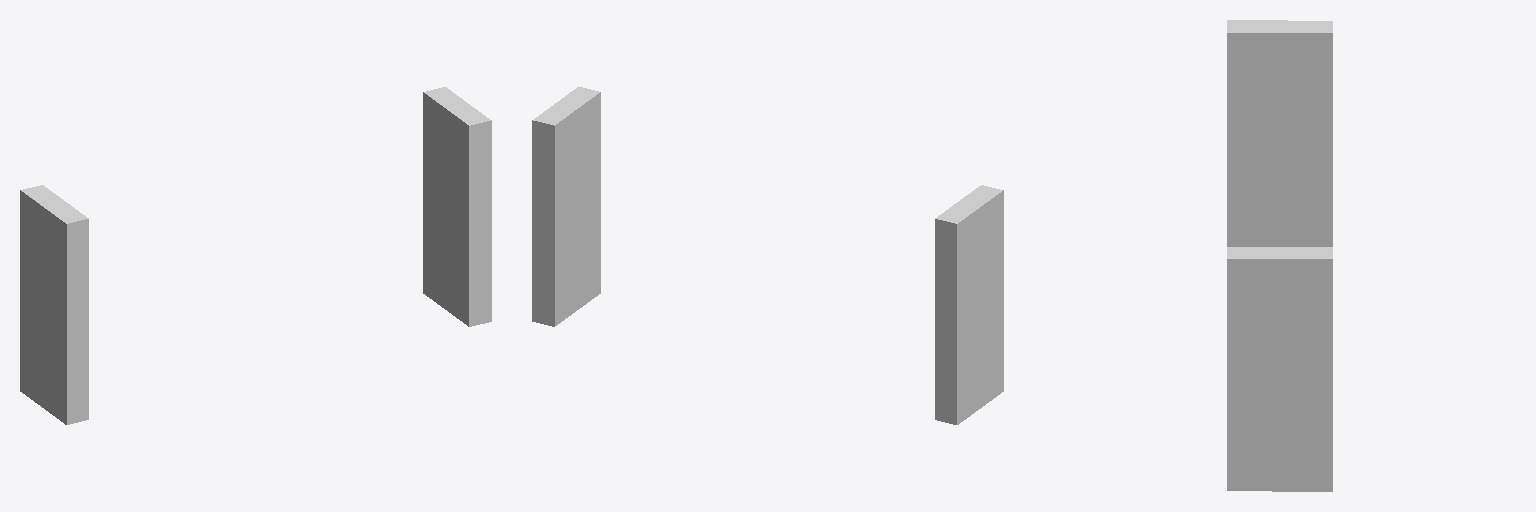
The robot description file, URDF, robot "gen3_robotiq_2f_140":
<?xml version="1.0" ?>
<!-- =================================================================================== -->
<!-- |    This document was autogenerated by xacro from ./gen3_robotiq_2f_140.xacro    | -->
<!-- |    EDITING THIS FILE BY HAND IS NOT RECOMMENDED                                 | -->
<!-- =================================================================================== -->
<robot name="gen3_robotiq_2f_140">
  <!-- Run the macros -->
  <link name="base_link">
    <inertial>
      <origin rpy="0 0 0" xyz="-0.000648 -0.000166 0.084487"/>
      <mass value="1.697"/>
      <inertia ixx="0.004622" ixy="9E-06" ixz="6E-05" iyy="0.004495" iyz="9E-06" izz="0.002079"/>
    </inertial>
    <visual>
      <origin rpy="0 0 0" xyz="0 0 0"/>
      <geometry>
        <mesh filename="arms/gen3/7dof/meshes/base_link.STL"/>
      </geometry>
      <material name="">
        <color rgba="0.75294 0.75294 0.75294 1"/>
      </material>
    </visual>
    <collision>
      <origin rpy="0 0 0" xyz="0 0 0"/>
      <geometry>
        <mesh filename="arms/gen3/7dof/collision_meshes/base_link.STL"/>
      </geometry>
    </collision>
  </link>
  <link name="shoulder_link">
    <inertial>
      <origin rpy="0 0 0" xyz="-2.3E-05 -0.010364 -0.07336"/>
      <mass value="1.3773"/>
      <inertia ixx="0.00457" ixy="1E-06" ixz="2E-06" iyy="0.004831" iyz="0.000448" izz="0.001409"/>
    </inertial>
    <visual>
      <origin rpy="0 0 0" xyz="0 0 0"/>
      <geometry>
        <mesh filename="arms/gen3/7dof/meshes/shoulder_link.STL"/>
      </geometry>
      <material name="">
        <color rgba="0.75294 0.75294 0.75294 1"/>
      </material>
    </visual>
    <collision>
      <origin rpy="0 0 0" xyz="0 0 0"/>
      <geometry>
        <mesh filename="arms/gen3/7dof/collision_meshes/shoulder_link.STL"/>
      </geometry>
    </collision>
  </link>
  <joint name="joint_1" type="continuous">
    <origin rpy="3.1416 2.7629E-18 -4.9305E-36" xyz="0 0 0.15643"/>
    <parent link="base_link"/>
    <child link="shoulder_link"/>
    <axis xyz="0 0 1"/>
    <limit effort="39" velocity="1.3963"/>
  </joint>
  <link name="half_arm_1_link">
    <inertial>
      <origin rpy="0 0 0" xyz="-4.4E-05 -0.09958 -0.013278"/>
      <mass value="1.1636"/>
      <inertia ixx="0.011088" ixy="5E-06" ixz="0" iyy="0.001072" iyz="-0.000691" izz="0.011255"/>
    </inertial>
    <visual>
      <origin rpy="0 0 0" xyz="0 0 0"/>
      <geometry>
        <mesh filename="arms/gen3/7dof/meshes/half_arm_1_link.STL"/>
      </geometry>
      <material name="">
        <color rgba="0.75294 0.75294 0.75294 1"/>
      </material>
    </visual>
    <collision>
      <origin rpy="0 0 0" xyz="0 0 0"/>
      <geometry>
        <mesh filename="arms/gen3/7dof/collision_meshes/half_arm_1_link.STL"/>
      </geometry>
    </collision>
  </link>
  <joint name="joint_2" type="revolute">
    <origin rpy="1.5708 2.1343E-17 -1.1102E-16" xyz="0 0.005375 -0.12838"/>
    <parent link="shoulder_link"/>
    <child link="half_arm_1_link"/>
    <axis xyz="0 0 1"/>
    <limit effort="39" lower="-2.24" upper="2.24" velocity="1.3963"/>
  </joint>
  <link name="half_arm_2_link">
    <inertial>
      <origin rpy="0 0 0" xyz="-4.4E-05 -0.006641 -0.117892"/>
      <mass value="1.1636"/>
      <inertia ixx="0.010932" ixy="0" ixz="-7E-06" iyy="0.011127" iyz="0.000606" izz="0.001043"/>
    </inertial>
    <visual>
      <origin rpy="0 0 0" xyz="0 0 0"/>
      <geometry>
        <mesh filename="arms/gen3/7dof/meshes/half_arm_2_link.STL"/>
      </geometry>
      <material name="">
        <color rgba="0.75294 0.75294 0.75294 1"/>
      </material>
    </visual>
    <collision>
      <origin rpy="0 0 0" xyz="0 0 0"/>
      <geometry>
        <mesh filename="arms/gen3/7dof/collision_meshes/half_arm_2_link.STL"/>
      </geometry>
    </collision>
  </link>
  <joint name="joint_3" type="continuous">
    <origin rpy="-1.5708 1.2326E-32 -2.9122E-16" xyz="0 -0.21038 -0.006375"/>
    <parent link="half_arm_1_link"/>
    <child link="half_arm_2_link"/>
    <axis xyz="0 0 1"/>
    <limit effort="39" velocity="1.3963"/>
  </joint>
  <link name="forearm_link">
    <inertial>
      <origin rpy="0 0 0" xyz="-1.8E-05 -0.075478 -0.015006"/>
      <mass value="0.9302"/>
      <inertia ixx="0.008147" ixy="-1E-06" ixz="0" iyy="0.000631" iyz="-0.0005" izz="0.008316"/>
    </inertial>
    <visual>
      <origin rpy="0 0 0" xyz="0 0 0"/>
      <geometry>
        <mesh filename="arms/gen3/7dof/meshes/forearm_link.STL"/>
      </geometry>
      <material name="">
        <color rgba="0.75294 0.75294 0.75294 1"/>
      </material>
    </visual>
    <collision>
      <origin rpy="0 0 0" xyz="0 0 0"/>
      <geometry>
        <mesh filename="arms/gen3/7dof/collision_meshes/forearm_link.STL"/>
      </geometry>
    </collision>
  </link>
  <joint name="joint_4" type="revolute">
    <origin rpy="1.5708 -6.6954E-17 -1.6653E-16" xyz="0 0.006375 -0.21038"/>
    <parent link="half_arm_2_link"/>
    <child link="forearm_link"/>
    <axis xyz="0 0 1"/>
    <limit effort="39" lower="-2.57" upper="2.57" velocity="1.3963"/>
  </joint>
  <link name="spherical_wrist_1_link">
    <inertial>
      <origin rpy="0 0 0" xyz="1E-06 -0.009432 -0.063883"/>
      <mass value="0.6781"/>
      <inertia ixx="0.001596" ixy="0" ixz="0" iyy="0.001607" iyz="0.000256" izz="0.000399"/>
    </inertial>
    <visual>
      <origin rpy="0 0 0" xyz="0 0 0"/>
      <geometry>
        <mesh filename="arms/gen3/7dof/meshes/spherical_wrist_1_link.STL"/>
      </geometry>
      <material name="">
        <color rgba="0.75294 0.75294 0.75294 1"/>
      </material>
    </visual>
    <collision>
      <origin rpy="0 0 0" xyz="0 0 0"/>
      <geometry>
        <mesh filename="arms/gen3/7dof/collision_meshes/spherical_wrist_1_link.STL"/>
      </geometry>
    </collision>
  </link>
  <joint name="joint_5" type="continuous">
    <origin rpy="-1.5708 2.2204E-16 -6.373E-17" xyz="0 -0.20843 -0.006375"/>
    <parent link="forearm_link"/>
    <child link="spherical_wrist_1_link"/>
    <axis xyz="0 0 1"/>
    <limit effort="9" velocity="1.2218"/>
  </joint>
  <link name="spherical_wrist_2_link">
    <inertial>
      <origin rpy="0 0 0" xyz="1E-06 -0.045483 -0.00965"/>
      <mass value="0.6781"/>
      <inertia ixx="0.001641" ixy="0" ixz="0" iyy="0.00041" iyz="-0.000278" izz="0.001641"/>
    </inertial>
    <visual>
      <origin rpy="0 0 0" xyz="0 0 0"/>
      <geometry>
        <mesh filename="arms/gen3/7dof/meshes/spherical_wrist_2_link.STL"/>
      </geometry>
      <material name="">
        <color rgba="0.75294 0.75294 0.75294 1"/>
      </material>
    </visual>
    <collision>
      <origin rpy="0 0 0" xyz="0 0 0"/>
      <geometry>
        <mesh filename="arms/gen3/7dof/collision_meshes/spherical_wrist_2_link.STL"/>
      </geometry>
    </collision>
  </link>
  <joint name="joint_6" type="revolute">
    <origin rpy="1.5708 9.2076E-28 -8.2157E-15" xyz="0 0.00017505 -0.10593"/>
    <parent link="spherical_wrist_1_link"/>
    <child link="spherical_wrist_2_link"/>
    <axis xyz="0 0 1"/>
    <limit effort="9" lower="-2.09" upper="2.09" velocity="1.2218"/>
  </joint>
  <link name="bracelet_link">
    <inertial>
      <origin rpy="0 0 0" xyz="-9.3E-05 0.000132 -0.022905"/>
      <mass value="0.364"/>
      <inertia ixx="0.000214" ixy="0" ixz="1E-06" iyy="0.000223" iyz="-2E-06" izz="0.00024"/>
    </inertial>
    <visual>
      <origin rpy="0 0 0" xyz="0 0 0"/>
      <geometry>
        <mesh filename="arms/gen3/7dof/meshes/bracelet_no_vision_link.STL"/>
      </geometry>
      <material name="">
        <color rgba="0.75294 0.75294 0.75294 1"/>
      </material>
    </visual>
    <collision>
      <origin rpy="0 0 0" xyz="0 0 0"/>
      <geometry>
        <mesh filename="arms/gen3/7dof/collision_meshes/bracelet_no_vision_link.STL"/>
      </geometry>
    </collision>
  </link>
  <joint name="joint_7" type="continuous">
    <origin rpy="-1.5708 -5.5511E-17 9.6396E-17" xyz="0 -0.10593 -0.00017505"/>
    <parent link="spherical_wrist_2_link"/>
    <child link="bracelet_link"/>
    <axis xyz="0 0 1"/>
    <limit effort="9" velocity="1.2218"/>
  </joint>
  <link name="end_effector_link"/>
  <joint name="end_effector" type="fixed">
    <origin rpy="3.14159265358979 1.09937075168372E-32 0" xyz="0 0 -0.0615250000000001"/>
    <parent link="bracelet_link"/>
    <child link="end_effector_link"/>
    <axis xyz="0 0 0"/>
  </joint>
  <!-- Tool frame used by the arm -->
  <link name="tool_frame"/>
  <joint name="tool_frame_joint" type="fixed">
    <origin rpy="0 0 0" xyz="0 0 0.20"/>
    <parent link="end_effector_link"/>
    <child link="tool_frame"/>
    <axis xyz="0 0 0"/>
  </joint>
  <!-- This joint was added by Kinova -->
  <joint name="gripper_base_joint" type="fixed">
    <parent link="end_effector_link"/>
    <child link="robotiq_arg2f_base_link"/>
    <origin rpy="0.0 0.0 1.57" xyz="0.0 0.0 0.0"/>
  </joint>
  <link name="robotiq_arg2f_base_link">
    <inertial>
      <origin rpy="0 0 0" xyz="8.625E-08 -4.6583E-06 0.03145"/>
      <mass value="0.22652"/>
      <inertia ixx="0.00020005" ixy="-4.2442E-10" ixz="-2.9069E-10" iyy="0.00017832" iyz="-3.4402E-08" izz="0.00013478"/>
    </inertial>
    <visual>
      <origin rpy="0 0 0" xyz="0 0 0"/>
      <geometry>
        <!-- The DAE file doesn't show well in Gazebo so we're using the STL instead -->
        <!-- <mesh filename="grippers/robotiq_2f_140/meshes/visual/robotiq_arg2f_140_base_link.dae" scale="0.001 0.001 0.001"/> -->
        <mesh filename="grippers/robotiq_2f_140/meshes/collision/robotiq_arg2f_base_link.stl"/>
      </geometry>
      <material name="">
        <color rgba="0.1 0.1 0.1 1"/>
      </material>
    </visual>
    <collision>
      <origin rpy="0 0 0" xyz="0 0 0"/>
      <geometry>
        <mesh filename="grippers/robotiq_2f_140/meshes/collision/robotiq_arg2f_base_link.stl"/>
      </geometry>
    </collision>
  </link>
  <gazebo reference="robotiq_arg2f_base_link">
    <material>Gazebo/Black</material>
  </gazebo>
  <link name="left_outer_knuckle">
    <inertial>
      <origin rpy="0 0 0" xyz="-0.000200000000003065 0.0199435877845359 0.0292245259211331"/>
      <mass value="0.00853198276973456"/>
      <inertia ixx="2.89328108496468E-06" ixy="-1.57935047237397E-19" ixz="-1.93980378593255E-19" iyy="1.86719750325683E-06" iyz="-1.21858577871576E-06" izz="1.21905238907251E-06"/>
    </inertial>
    <visual>
      <origin rpy="0 0 0" xyz="0 0 0"/>
      <geometry>
        <mesh filename="grippers/robotiq_2f_140/meshes/visual/robotiq_arg2f_140_outer_knuckle.stl"/>
      </geometry>
      <material name="">
        <color rgba="0.792156862745098 0.819607843137255 0.933333333333333 1"/>
      </material>
    </visual>
    <collision>
      <origin rpy="0 0 0" xyz="0 0 0"/>
      <geometry>
        <mesh filename="grippers/robotiq_2f_140/meshes/collision/robotiq_arg2f_140_outer_knuckle.stl"/>
      </geometry>
    </collision>
  </link>
  <gazebo reference="left_outer_knuckle">
    <visual>
      <material>
        <ambient>0.792156862745098 0.819607843137255 0.933333333333333 1</ambient>
        <diffuse>0.792156862745098 0.819607843137255 0.933333333333333 1</diffuse>
      </material>
    </visual>
  </gazebo>
  <link name="left_outer_finger">
    <inertial>
      <origin rpy="0 0 0" xyz="0.00030115855001899 0.0373907951953854 -0.0208027427000385"/>
      <mass value="0.022614240507152"/>
      <inertia ixx="1.52518312458174E-05" ixy="9.76583423954399E-10" ixz="-5.43838577022588E-10" iyy="6.17694243867776E-06" iyz="6.78636130740228E-06" izz="1.16494917907219E-05"/>
    </inertial>
    <visual>
      <origin rpy="0 0 0" xyz="0 0 0"/>
      <geometry>
        <mesh filename="grippers/robotiq_2f_140/meshes/visual/robotiq_arg2f_140_outer_finger.stl"/>
      </geometry>
      <material name="">
        <color rgba="0.1 0.1 0.1 1"/>
      </material>
    </visual>
    <collision>
      <origin rpy="0 0 0" xyz="0 0 0"/>
      <geometry>
        <mesh filename="grippers/robotiq_2f_140/meshes/collision/robotiq_arg2f_140_outer_finger.stl"/>
      </geometry>
    </collision>
  </link>
  <gazebo reference="left_outer_finger">
    <material>Gazebo/Black</material>
  </gazebo>
  <link name="left_inner_finger">
    <inertial>
      <origin rpy="0 0 0" xyz="0.000299999999999317 0.0160078233491243 -0.0136945669206257"/>
      <mass value="0.0104003125914103"/>
      <inertia ixx="2.71909453810972E-06" ixy="1.35402465472579E-21" ixz="-7.1817349065269E-22" iyy="7.69100314106116E-07" iyz="6.74715432769696E-07" izz="2.30315190420171E-06"/>
    </inertial>
    <visual>
      <origin rpy="0 0 0" xyz="0 0 0"/>
      <geometry>
        <mesh filename="grippers/robotiq_2f_140/meshes/visual/robotiq_arg2f_140_inner_finger.stl"/>
      </geometry>
      <material name="">
        <color rgba="0.1 0.1 0.1 1"/>
      </material>
    </visual>
    <collision>
      <origin rpy="0 0 0" xyz="0 0 0"/>
      <geometry>
        <mesh filename="grippers/robotiq_2f_140/meshes/collision/robotiq_arg2f_140_inner_finger.stl"/>
      </geometry>
    </collision>
  </link>
  <gazebo reference="left_inner_finger">
    <material>Gazebo/Black</material>
  </gazebo>
  <link name="left_inner_finger_pad">
    <visual>
      <origin rpy="0 0 0" xyz="0 0 0"/>
      <geometry>
        <box size="0.027 0.065 0.0075"/>
      </geometry>
      <material name="">
        <color rgba="0.9 0.9 0.9 1"/>
      </material>
    </visual>
    <collision>
      <origin rpy="0 0 0" xyz="0 0 0"/>
      <geometry>
        <box size="0.03 0.07 0.0075"/>
      </geometry>
      <material name="">
        <color rgba="0.9 0.0 0.0 1"/>
      </material>
    </collision>
  </link>
  <link name="left_inner_knuckle">
    <inertial>
      <origin rpy="0 0 0" xyz="0.000123011831763771 0.0507850843201817 0.00103968640075166"/>
      <mass value="0.0271177346495152"/>
      <inertia ixx="2.61910379223783E-05" ixy="-2.43616858946494E-07" ixz="-6.37789906117123E-09" iyy="2.8270243746167E-06" iyz="-5.37200748039765E-07" izz="2.83695868220296E-05"/>
    </inertial>
    <visual>
      <origin rpy="0 0 0" xyz="0 0 0"/>
      <geometry>
        <mesh filename="grippers/robotiq_2f_140/meshes/visual/robotiq_arg2f_140_inner_knuckle.stl"/>
      </geometry>
      <material name="">
        <color rgba="0.1 0.1 0.1 1"/>
      </material>
    </visual>
    <collision>
      <origin rpy="0 0 0" xyz="0 0 0"/>
      <geometry>
        <mesh filename="grippers/robotiq_2f_140/meshes/collision/robotiq_arg2f_140_inner_knuckle.stl"/>
      </geometry>
    </collision>
  </link>
  <gazebo reference="left_inner_knuckle">
    <material>Gazebo/Black</material>
  </gazebo>
  <link name="right_outer_knuckle">
    <inertial>
      <origin rpy="0 0 0" xyz="-0.000200000000003065 0.0199435877845359 0.0292245259211331"/>
      <mass value="0.00853198276973456"/>
      <inertia ixx="2.89328108496468E-06" ixy="-1.57935047237397E-19" ixz="-1.93980378593255E-19" iyy="1.86719750325683E-06" iyz="-1.21858577871576E-06" izz="1.21905238907251E-06"/>
    </inertial>
    <visual>
      <origin rpy="0 0 0" xyz="0 0 0"/>
      <geometry>
        <mesh filename="grippers/robotiq_2f_140/meshes/visual/robotiq_arg2f_140_outer_knuckle.stl"/>
      </geometry>
      <material name="">
        <color rgba="0.792156862745098 0.819607843137255 0.933333333333333 1"/>
      </material>
    </visual>
    <collision>
      <origin rpy="0 0 0" xyz="0 0 0"/>
      <geometry>
        <mesh filename="grippers/robotiq_2f_140/meshes/collision/robotiq_arg2f_140_outer_knuckle.stl"/>
      </geometry>
    </collision>
  </link>
  <gazebo reference="right_outer_knuckle">
    <visual>
      <material>
        <ambient>0.792156862745098 0.819607843137255 0.933333333333333 1</ambient>
        <diffuse>0.792156862745098 0.819607843137255 0.933333333333333 1</diffuse>
      </material>
    </visual>
  </gazebo>
  <link name="right_outer_finger">
    <inertial>
      <origin rpy="0 0 0" xyz="0.00030115855001899 0.0373907951953854 -0.0208027427000385"/>
      <mass value="0.022614240507152"/>
      <inertia ixx="1.52518312458174E-05" ixy="9.76583423954399E-10" ixz="-5.43838577022588E-10" iyy="6.17694243867776E-06" iyz="6.78636130740228E-06" izz="1.16494917907219E-05"/>
    </inertial>
    <visual>
      <origin rpy="0 0 0" xyz="0 0 0"/>
      <geometry>
        <mesh filename="grippers/robotiq_2f_140/meshes/visual/robotiq_arg2f_140_outer_finger.stl"/>
      </geometry>
      <material name="">
        <color rgba="0.1 0.1 0.1 1"/>
      </material>
    </visual>
    <collision>
      <origin rpy="0 0 0" xyz="0 0 0"/>
      <geometry>
        <mesh filename="grippers/robotiq_2f_140/meshes/collision/robotiq_arg2f_140_outer_finger.stl"/>
      </geometry>
    </collision>
  </link>
  <gazebo reference="right_outer_finger">
    <material>Gazebo/Black</material>
  </gazebo>
  <link name="right_inner_finger">
    <inertial>
      <origin rpy="0 0 0" xyz="0.000299999999999317 0.0160078233491243 -0.0136945669206257"/>
      <mass value="0.0104003125914103"/>
      <inertia ixx="2.71909453810972E-06" ixy="1.35402465472579E-21" ixz="-7.1817349065269E-22" iyy="7.69100314106116E-07" iyz="6.74715432769696E-07" izz="2.30315190420171E-06"/>
    </inertial>
    <visual>
      <origin rpy="0 0 0" xyz="0 0 0"/>
      <geometry>
        <mesh filename="grippers/robotiq_2f_140/meshes/visual/robotiq_arg2f_140_inner_finger.stl"/>
      </geometry>
      <material name="">
        <color rgba="0.1 0.1 0.1 1"/>
      </material>
    </visual>
    <collision>
      <origin rpy="0 0 0" xyz="0 0 0"/>
      <geometry>
        <mesh filename="grippers/robotiq_2f_140/meshes/collision/robotiq_arg2f_140_inner_finger.stl"/>
      </geometry>
    </collision>
  </link>
  <gazebo reference="right_inner_finger">
    <material>Gazebo/Black</material>
  </gazebo>
  <link name="right_inner_finger_pad">
    <visual>
      <origin rpy="0 0 0" xyz="0 0 0"/>
      <geometry>
        <box size="0.027 0.065 0.0075"/>
      </geometry>
      <material name="">
        <color rgba="0.9 0.9 0.9 1"/>
      </material>
    </visual>
    <collision>
      <origin rpy="0 0 0" xyz="0 0 0"/>
      <geometry>
        <box size="0.03 0.07 0.0075"/>
      </geometry>
      <material name="">
        <color rgba="0.9 0.0 0.0 1"/>
      </material>
    </collision>
  </link>
  <link name="right_inner_knuckle">
    <inertial>
      <origin rpy="0 0 0" xyz="0.000123011831763771 0.0507850843201817 0.00103968640075166"/>
      <mass value="0.0271177346495152"/>
      <inertia ixx="2.61910379223783E-05" ixy="-2.43616858946494E-07" ixz="-6.37789906117123E-09" iyy="2.8270243746167E-06" iyz="-5.37200748039765E-07" izz="2.83695868220296E-05"/>
    </inertial>
    <visual>
      <origin rpy="0 0 0" xyz="0 0 0"/>
      <geometry>
        <mesh filename="grippers/robotiq_2f_140/meshes/visual/robotiq_arg2f_140_inner_knuckle.stl"/>
      </geometry>
      <material name="">
        <color rgba="0.1 0.1 0.1 1"/>
      </material>
    </visual>
    <collision>
      <origin rpy="0 0 0" xyz="0 0 0"/>
      <geometry>
        <mesh filename="grippers/robotiq_2f_140/meshes/collision/robotiq_arg2f_140_inner_knuckle.stl"/>
      </geometry>
    </collision>
  </link>
  <gazebo reference="right_inner_knuckle">
    <material>Gazebo/Black</material>
  </gazebo>
  <joint name="finger_joint" type="fixed">
    <origin rpy="2.2957963267948966 0 0" xyz="0 -0.030601 0.054905"/>
    <parent link="robotiq_arg2f_base_link"/>
    <child link="left_outer_knuckle"/>
    <axis xyz="-1 0 0"/>
    <limit effort="1000" lower="0" upper="0.7" velocity="2.0"/>
  </joint>
  <joint name="left_outer_finger_joint" type="fixed">
    <origin rpy="0 0 0" xyz="0 0.01821998610742 0.0260018192872234"/>
    <parent link="left_outer_knuckle"/>
    <child link="left_outer_finger"/>
    <axis xyz="1 0 0"/>
  </joint>
  <joint name="left_inner_knuckle_joint" type="fixed">
    <origin rpy="2.2957963267948966 0 0.0" xyz="0 -0.0127 0.06142"/>
    <parent link="robotiq_arg2f_base_link"/>
    <child link="left_inner_knuckle"/>
    <axis xyz="1 0 0"/>
    <limit effort="1000" lower="-0.8757" upper="0.8757" velocity="2.0"/>
    <mimic joint="finger_joint" multiplier="-1" offset="0"/>
  </joint>
  <joint name="left_inner_finger_joint" type="fixed">
    <origin rpy="-0.725 0 0" xyz="0 0.0817554015893473 -0.0282203446692936"/>
    <parent link="left_outer_finger"/>
    <child link="left_inner_finger"/>
    <axis xyz="1 0 0"/>
    <limit effort="1000" lower="-0.8757" upper="0.8757" velocity="2.0"/>
    <mimic joint="finger_joint" multiplier="1" offset="0"/>
  </joint>
  <joint name="left_inner_finger_pad_joint" type="fixed">
    <origin rpy="0 0 0" xyz="0 0.0457554015893473 -0.0272203446692936"/>
    <parent link="left_inner_finger"/>
    <child link="left_inner_finger_pad"/>
    <axis xyz="0 0 1"/>
  </joint>
  <joint name="right_outer_knuckle_joint" type="fixed">
    <origin rpy="2.2957963267948966 0 3.141592653589793" xyz="0 0.030601 0.054905"/>
    <parent link="robotiq_arg2f_base_link"/>
    <child link="right_outer_knuckle"/>
    <axis xyz="1 0 0"/>
    <limit effort="1000" lower="-0.725" upper="0.725" velocity="2.0"/>
    <mimic joint="finger_joint" multiplier="-1" offset="0"/>
  </joint>
  <joint name="right_outer_finger_joint" type="fixed">
    <origin rpy="0 0 0" xyz="0 0.01821998610742 0.0260018192872234"/>
    <parent link="right_outer_knuckle"/>
    <child link="right_outer_finger"/>
    <axis xyz="1 0 0"/>
  </joint>
  <joint name="right_inner_knuckle_joint" type="fixed">
    <origin rpy="2.2957963267948966 0 -3.141592653589793" xyz="0 0.0127 0.06142"/>
    <parent link="robotiq_arg2f_base_link"/>
    <child link="right_inner_knuckle"/>
    <axis xyz="1 0 0"/>
    <limit effort="1000" lower="-0.8757" upper="0.8757" velocity="2.0"/>
    <mimic joint="finger_joint" multiplier="-1" offset="0"/>
  </joint>
  <joint name="right_inner_finger_joint" type="fixed">
    <origin rpy="-0.725 0 0" xyz="0 0.0817554015893473 -0.0282203446692936"/>
    <parent link="right_outer_finger"/>
    <child link="right_inner_finger"/>
    <axis xyz="1 0 0"/>
    <limit effort="1000" lower="-0.8757" upper="0.8757" velocity="2.0"/>
    <mimic joint="finger_joint" multiplier="1" offset="0"/>
  </joint>
  <joint name="right_inner_finger_pad_joint" type="fixed">
    <origin rpy="0 0 0" xyz="0 0.0457554015893473 -0.0272203446692936"/>
    <parent link="right_inner_finger"/>
    <child link="right_inner_finger_pad"/>
    <axis xyz="0 0 1"/>
  </joint>
  <!-- Transmissions are loaded in the generic kortex xacro when simulation is enabled -->
  <!-- <xacro:robotiq_arg2f_transmission prefix="${prefix}"/> -->
</robot>

--- What the picture shows (computed from the rendered views, not written in the file) ---
The picture shows the robot from 3 angles, left to right: view 1: azimuth 30°, elevation 25°; view 2: azimuth 150°, elevation 25°; view 3: azimuth 270°, elevation 25°; orthographic projection.
Model gen3_robotiq_2f_140 with 21 links and 20 joints (3 revolute, 4 continuous, 13 fixed), rooted at base_link, posed every joint at zero.
Visible links, largest first — view 1: left_inner_finger_pad, right_inner_finger_pad; view 2: left_inner_finger_pad, right_inner_finger_pad; view 3: left_inner_finger_pad, right_inner_finger_pad.
Boxes of the visible links, x1,y1,x2,y2 form: left_inner_finger_pad: [423, 87, 491, 326]; right_inner_finger_pad: [20, 185, 88, 424]; left_inner_finger_pad: [532, 87, 600, 326]; right_inner_finger_pad: [935, 185, 1003, 424]; left_inner_finger_pad: [1227, 247, 1332, 491]; right_inner_finger_pad: [1227, 20, 1332, 246].
Size in the robot's own frame: 0.1436 by 0.0271 by 0.065 metres.
0 mesh visuals loaded from 13 distinct referenced files (none loaded); not drawn: 17 (reference not matched to a file when rendering).